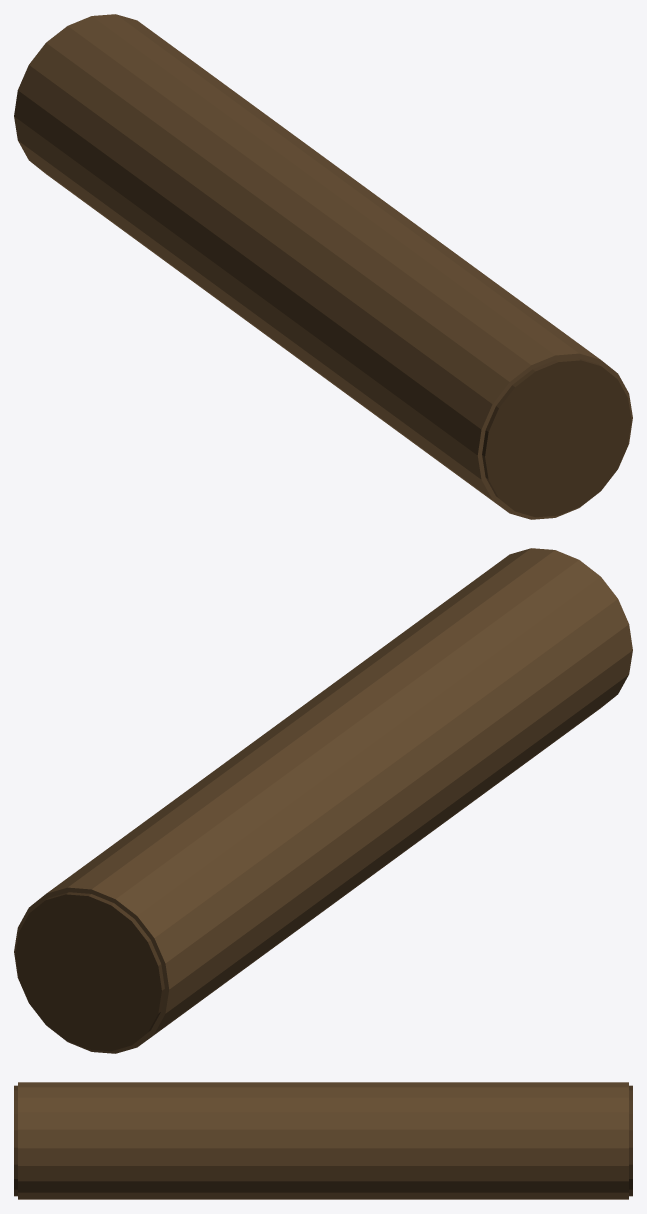
File: fallen_log_02.glb
3 views of the same model, one above another, from view 1: azimuth 30°, elevation 25°; view 2: azimuth 150°, elevation 25°; view 3: azimuth 270°, elevation 25° (orthographic). The views are drawn at different scales.
Visible parts, largest first — view 1: Cylinder; view 2: Cylinder; view 3: Cylinder.
Boxes of the visible parts, left/top/right/bottom form: Cylinder: left=14, top=14, right=632, bottom=519; Cylinder: left=14, top=548, right=632, bottom=1053; Cylinder: left=14, top=1082, right=632, bottom=1199.
Bounding box in the file's own units: 0.18 × 0.18 × 0.9431.
